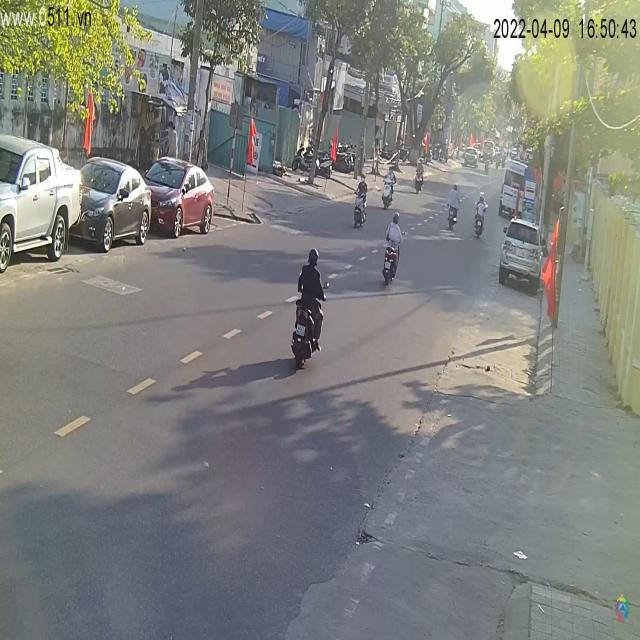car: (1, 134, 83, 278), (74, 158, 155, 252), (141, 156, 217, 240), (499, 215, 542, 295), (499, 160, 538, 222)
motorcycle: (291, 300, 324, 366), (382, 230, 400, 288), (383, 242, 401, 285), (353, 188, 368, 228), (381, 172, 395, 210), (474, 202, 486, 240), (414, 168, 424, 194)
